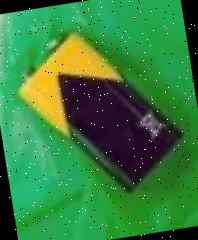electronic: (0, 6, 198, 226)
